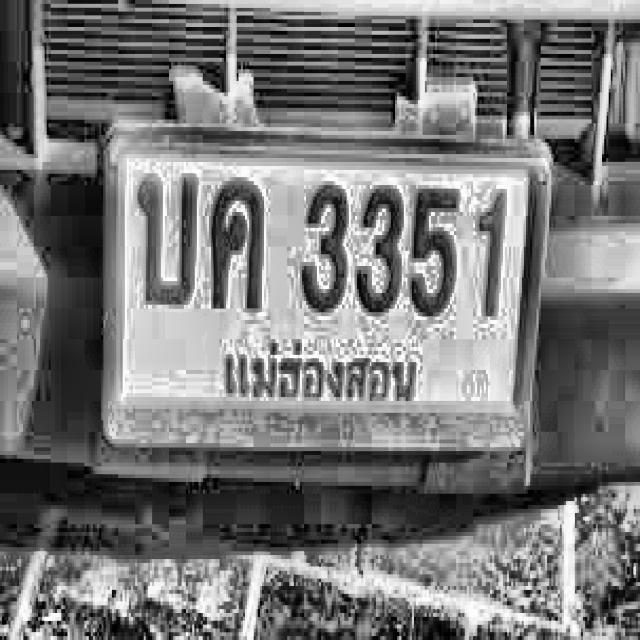license-plate: (105, 118, 550, 452)
